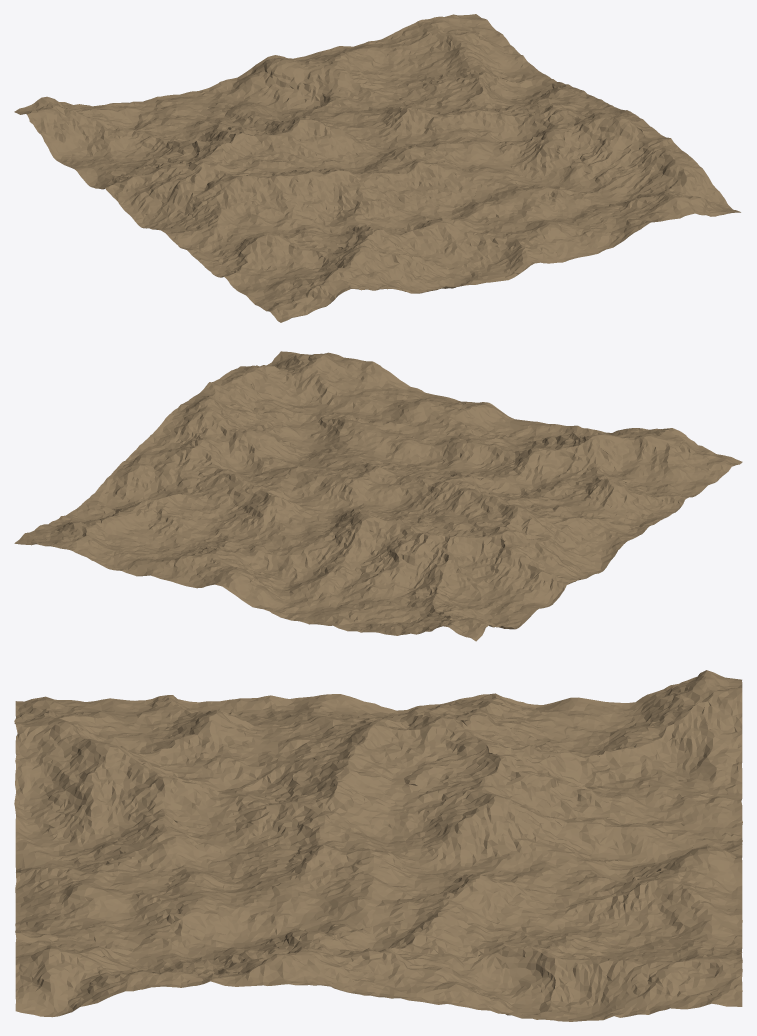
The model's file is LargeGround02.fbx.
The picture shows the model from 3 angles, top to bottom: view 1: azimuth 30°, elevation 25°; view 2: azimuth 150°, elevation 25°; view 3: azimuth 270°, elevation 25°; orthographic projection. The views are drawn at different scales.
Parts seen in each view (by area): view 1: LargeGround02; view 2: LargeGround02; view 3: LargeGround02.
Boxes of the visible parts, <box> form: LargeGround02: <box>14,14,740,322</box>; LargeGround02: <box>14,351,742,641</box>; LargeGround02: <box>14,670,742,1021</box>.
Bounding box in the file's own units: 452 × 38.52 × 451.
